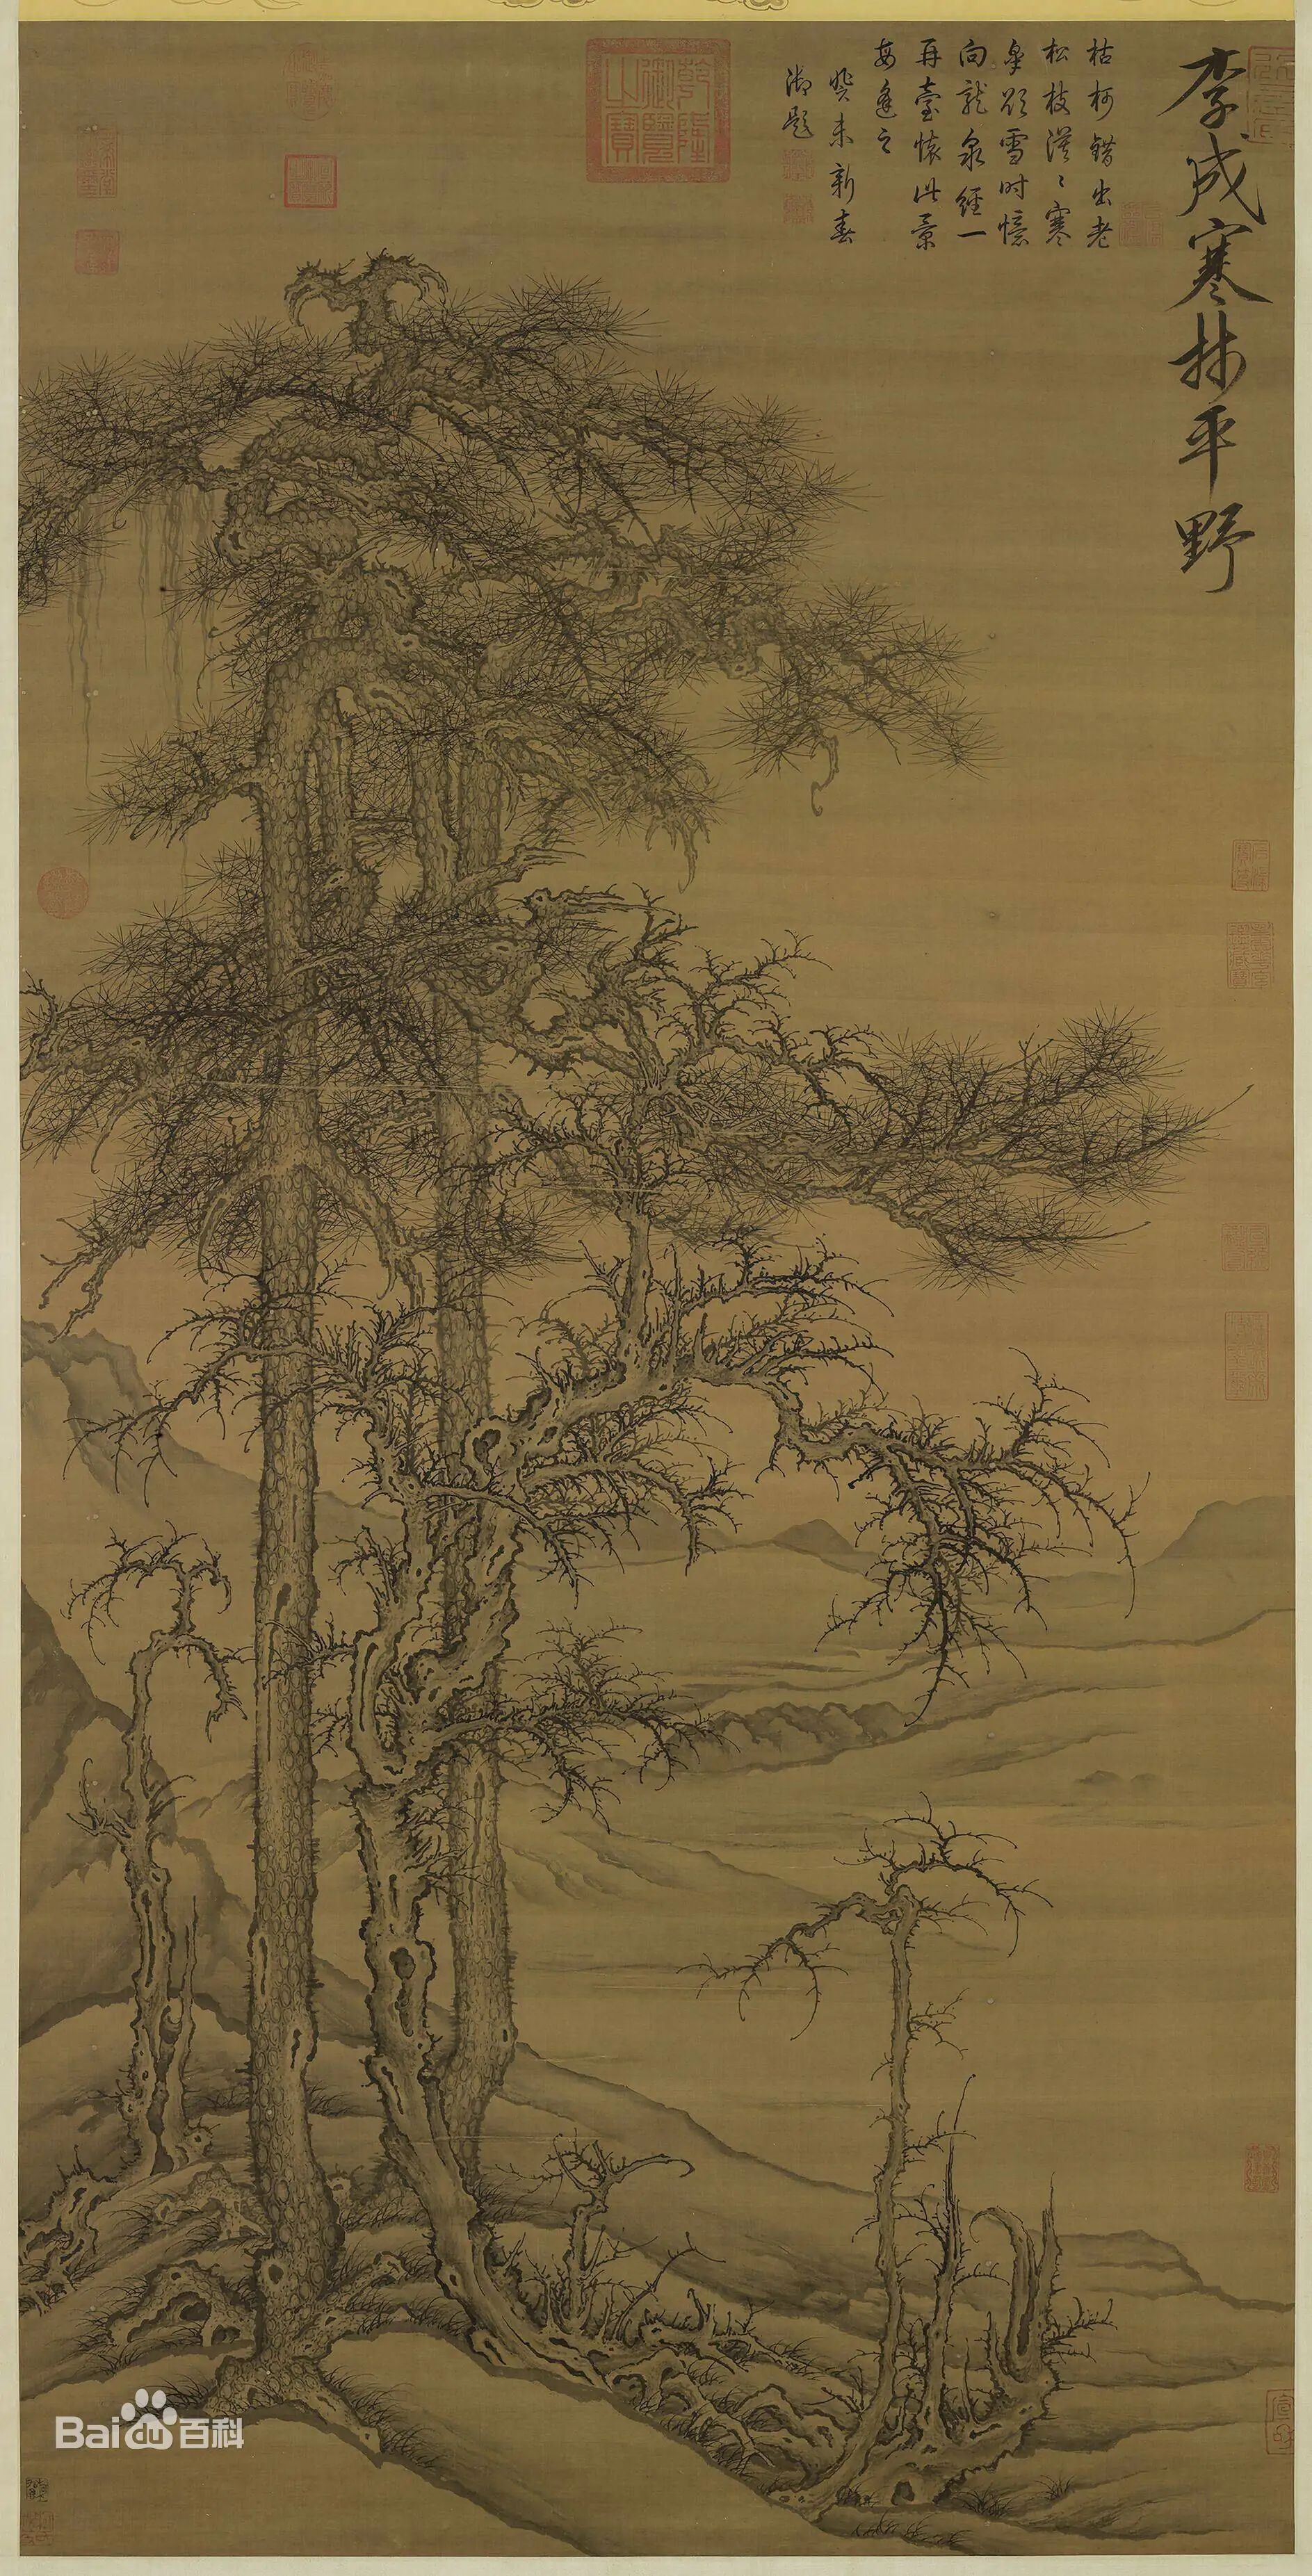tree: (35, 264, 1165, 2404), (760, 1807, 1108, 2507)
